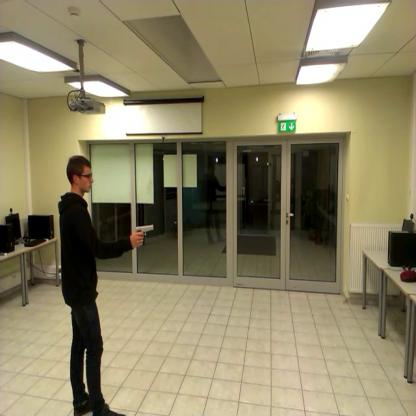Pistol: (129, 216, 156, 246)
